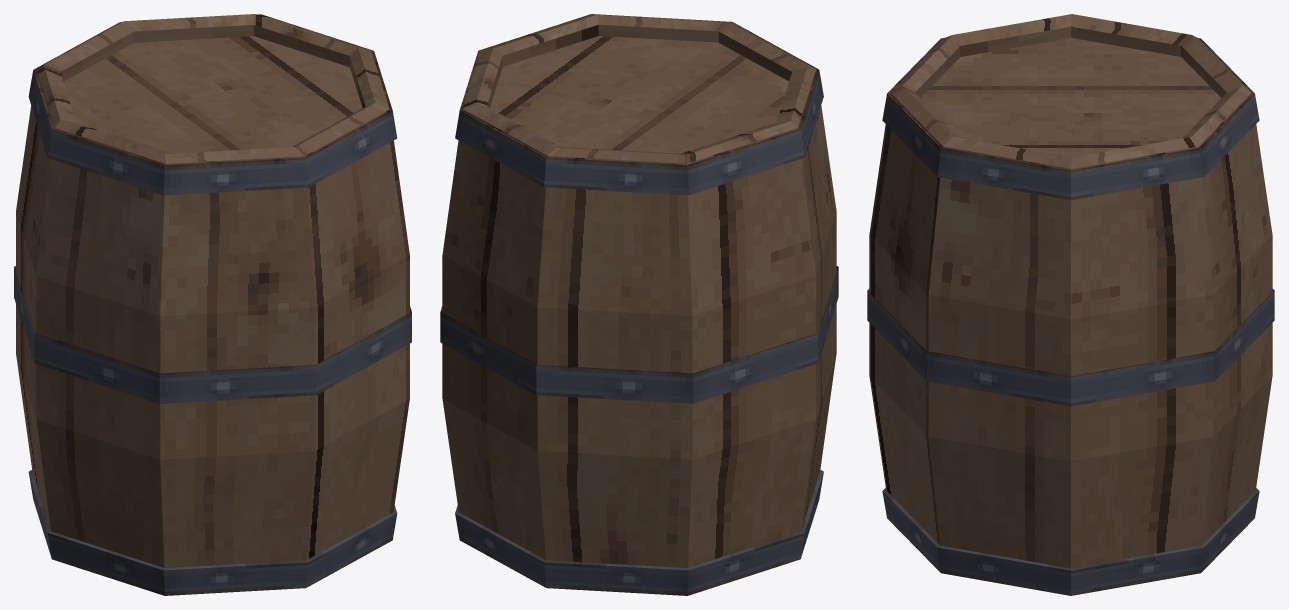
The model's file is barrel.glb.
3 renders of one model, left to right at view 1: azimuth 30°, elevation 25°; view 2: azimuth 150°, elevation 25°; view 3: azimuth 270°, elevation 25°, orthographic.
Parts seen in each view (by area): view 1: barrel; view 2: barrel; view 3: barrel.
Part boxes in pixels (<box>): barrel: <box>14,14,411,595</box>; barrel: <box>440,14,838,595</box>; barrel: <box>867,14,1274,595</box>.
Size of the model in its own units: 0.9799 by 1.14 by 0.9799.
Materials: 2 (2 with a texture image).
